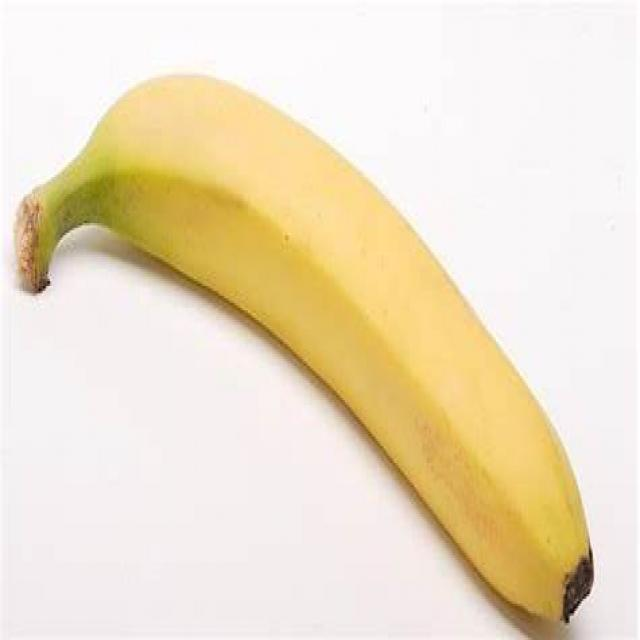Banana: (16, 72, 597, 630)
